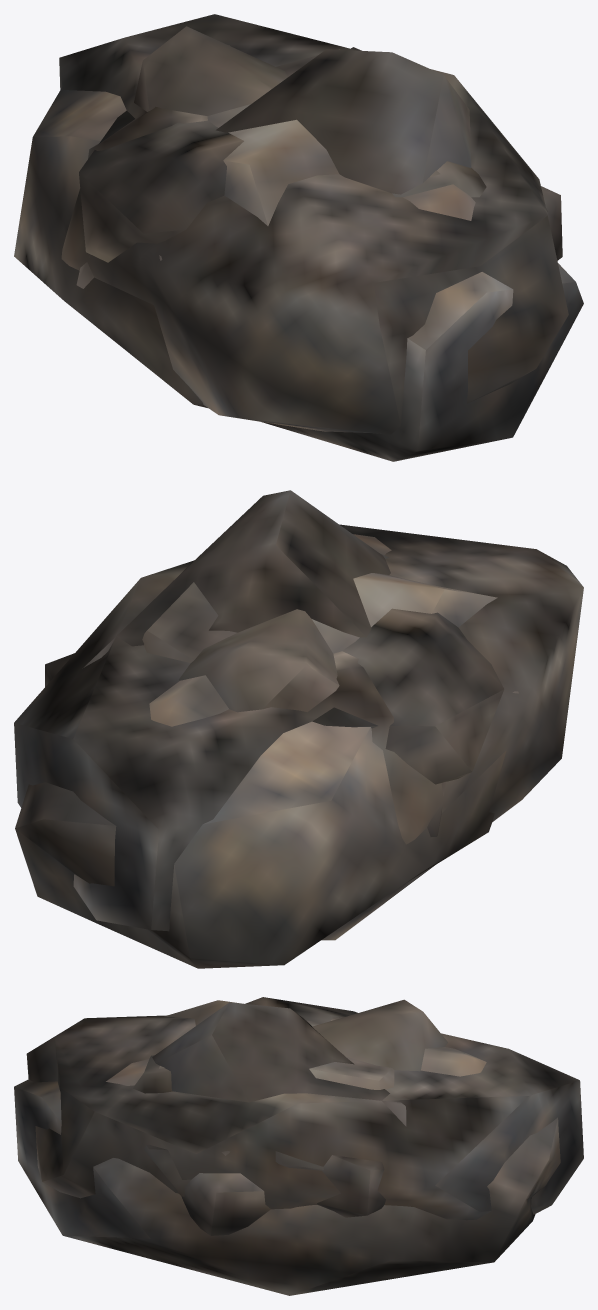
Rendered from Detail_Stones.fbx.
3 views of the same model, one above another, from view 1: azimuth 30°, elevation 25°; view 2: azimuth 150°, elevation 25°; view 3: azimuth 270°, elevation 25° (orthographic). The views are drawn at different scales.
Parts seen in each view (by area): view 1: Detail_Stone_02_a, Detail_Stone_02_b, Detail_Stone_01_a, Detail_Stone_03_a, Detail_Stone_01_b, Detail_Stone_05_b; view 2: Detail_Stone_02_a, Detail_Stone_02_b, Detail_Stone_01_a, Detail_Stone_03_a, Detail_Stone_01_b, Detail_Stone_03_b, Detail_Stone_05_a; view 3: Detail_Stone_02_a, Detail_Stone_02_b, Detail_Stone_01_a, Detail_Stone_01_b, Detail_Stone_05_b, Detail_Stone_05_a, Detail_Stone_03_a, Detail_Stone_03_b.
Boxes of the visible parts, x1,y1,x2,y2 form: Detail_Stone_02_a: (59, 14, 568, 434); Detail_Stone_02_b: (14, 45, 583, 461); Detail_Stone_01_a: (216, 47, 471, 194); Detail_Stone_03_a: (79, 110, 548, 262); Detail_Stone_01_b: (134, 26, 287, 115); Detail_Stone_05_b: (159, 186, 562, 260); Detail_Stone_02_a: (14, 524, 583, 940); Detail_Stone_02_b: (15, 534, 506, 968); Detail_Stone_01_a: (82, 490, 390, 668); Detail_Stone_03_a: (312, 553, 504, 784); Detail_Stone_01_b: (179, 609, 339, 712); Detail_Stone_03_b: (142, 582, 236, 662); Detail_Stone_05_a: (45, 653, 445, 836); Detail_Stone_02_a: (26, 1015, 583, 1220); Detail_Stone_02_b: (14, 1000, 560, 1295); Detail_Stone_01_a: (152, 1002, 406, 1170); Detail_Stone_01_b: (312, 999, 447, 1071); Detail_Stone_05_b: (181, 1173, 270, 1235); Detail_Stone_05_a: (317, 1155, 385, 1217); Detail_Stone_03_a: (133, 997, 357, 1196); Detail_Stone_03_b: (309, 1057, 394, 1089).
Size of the model in its own units: 16.56 by 14.11 by 26.82.
